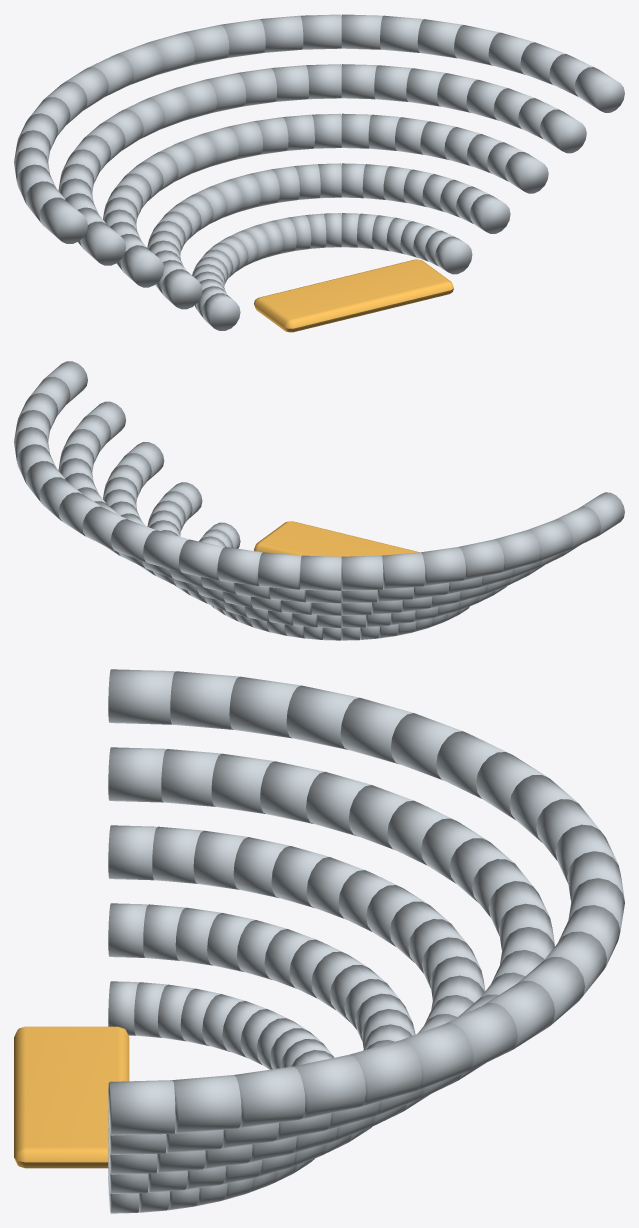
File: amphitheatre-lite.glb
3 renders of one model, top to bottom at view 1: azimuth 30°, elevation 25°; view 2: azimuth 150°, elevation 25°; view 3: azimuth 270°, elevation 25°, orthographic. The views are drawn at different scales.
Visible parts, largest first — view 1: Seating tier0; view 2: Seating tier0; view 3: Seating tier0.
Boxes of the visible parts, <box> form: Seating tier0: <box>14,14,624,332</box>; Seating tier0: <box>14,361,624,640</box>; Seating tier0: <box>14,669,624,1213</box>.
Bounding box in the file's own units: 2.68 × 0.7 × 1.59.
